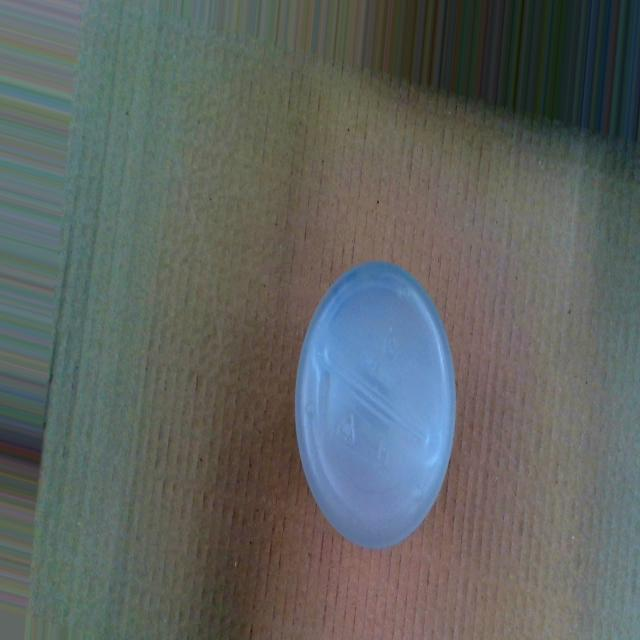bottle: (294, 253, 459, 559)
